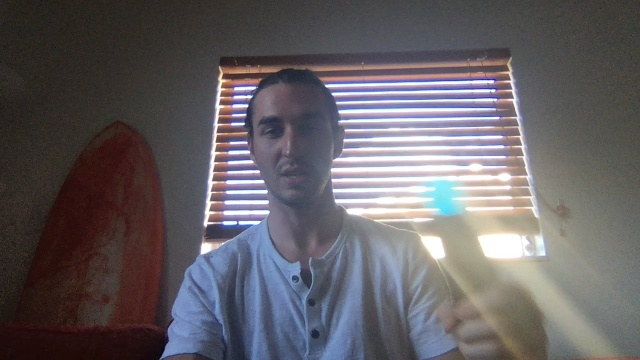wand: (426, 178, 467, 216)
